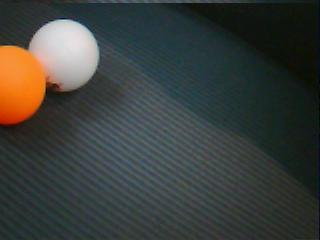oball: (0, 47, 44, 126)
